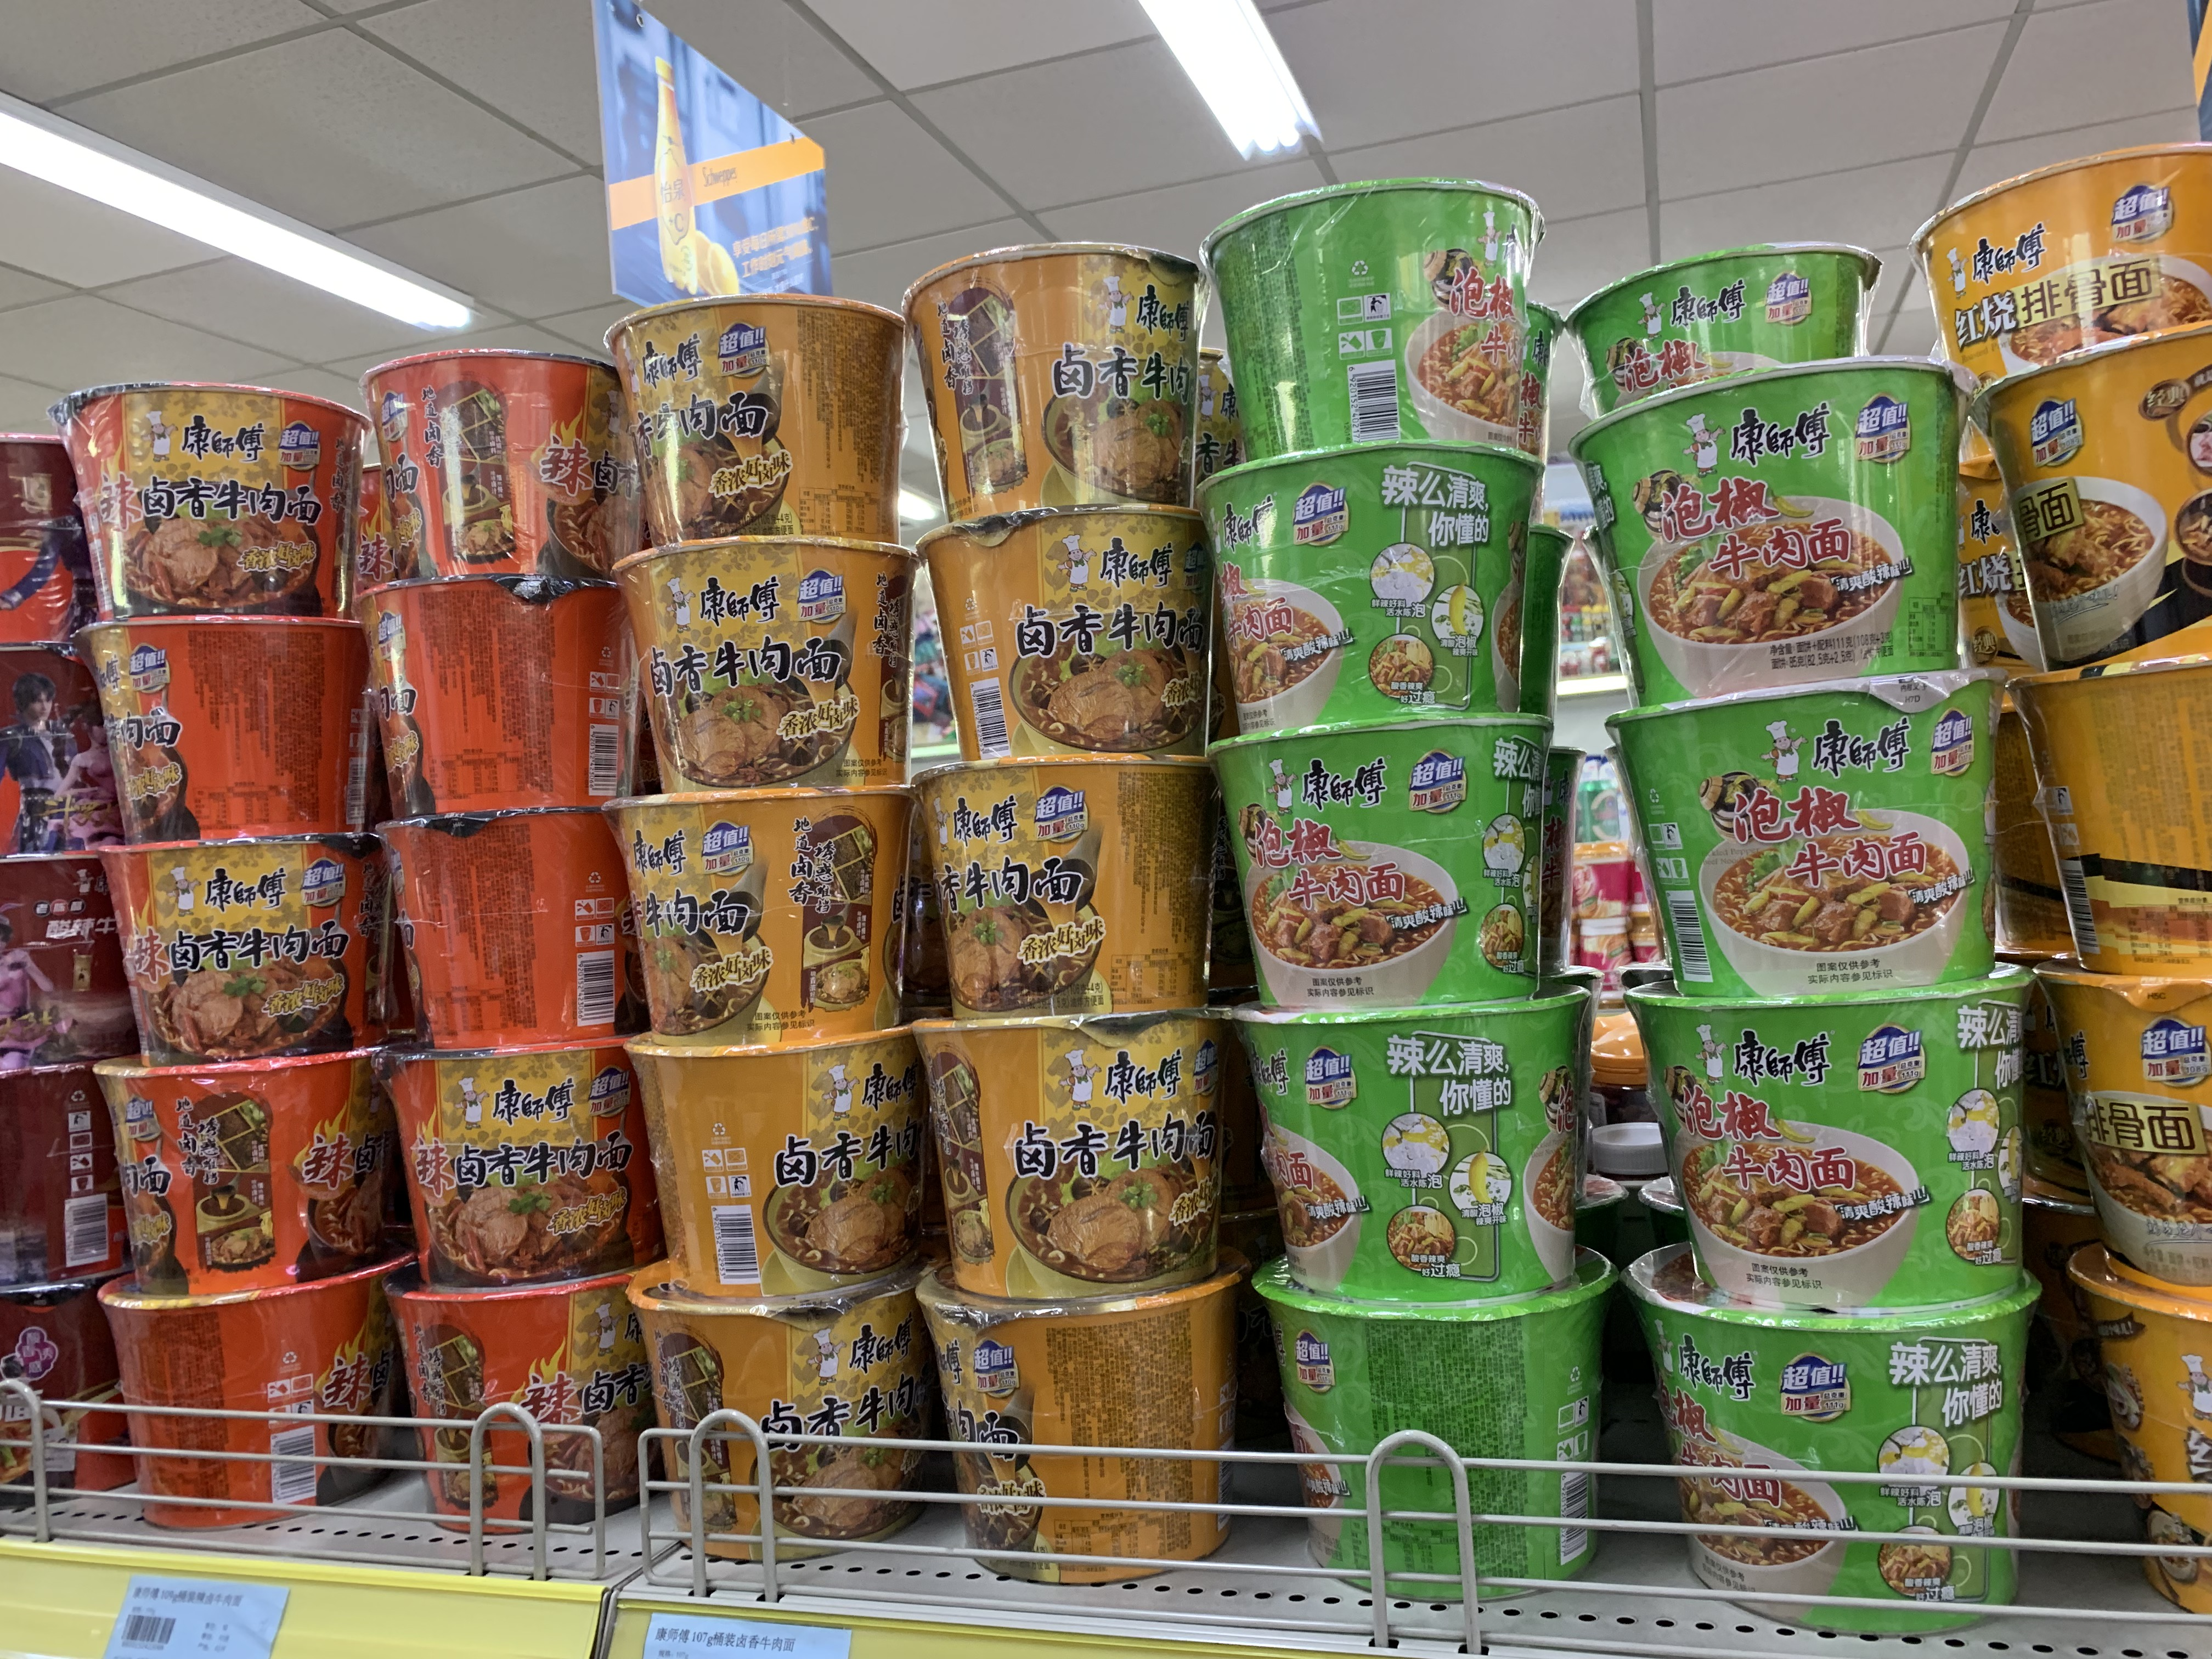luxiang: (913, 1298, 1252, 1588), (906, 1014, 1233, 1298), (911, 751, 1223, 1016), (906, 240, 1211, 511), (606, 535, 921, 795), (611, 786, 920, 1051), (611, 1044, 913, 1304), (603, 296, 911, 540), (629, 1300, 913, 1565), (921, 505, 1216, 756)
